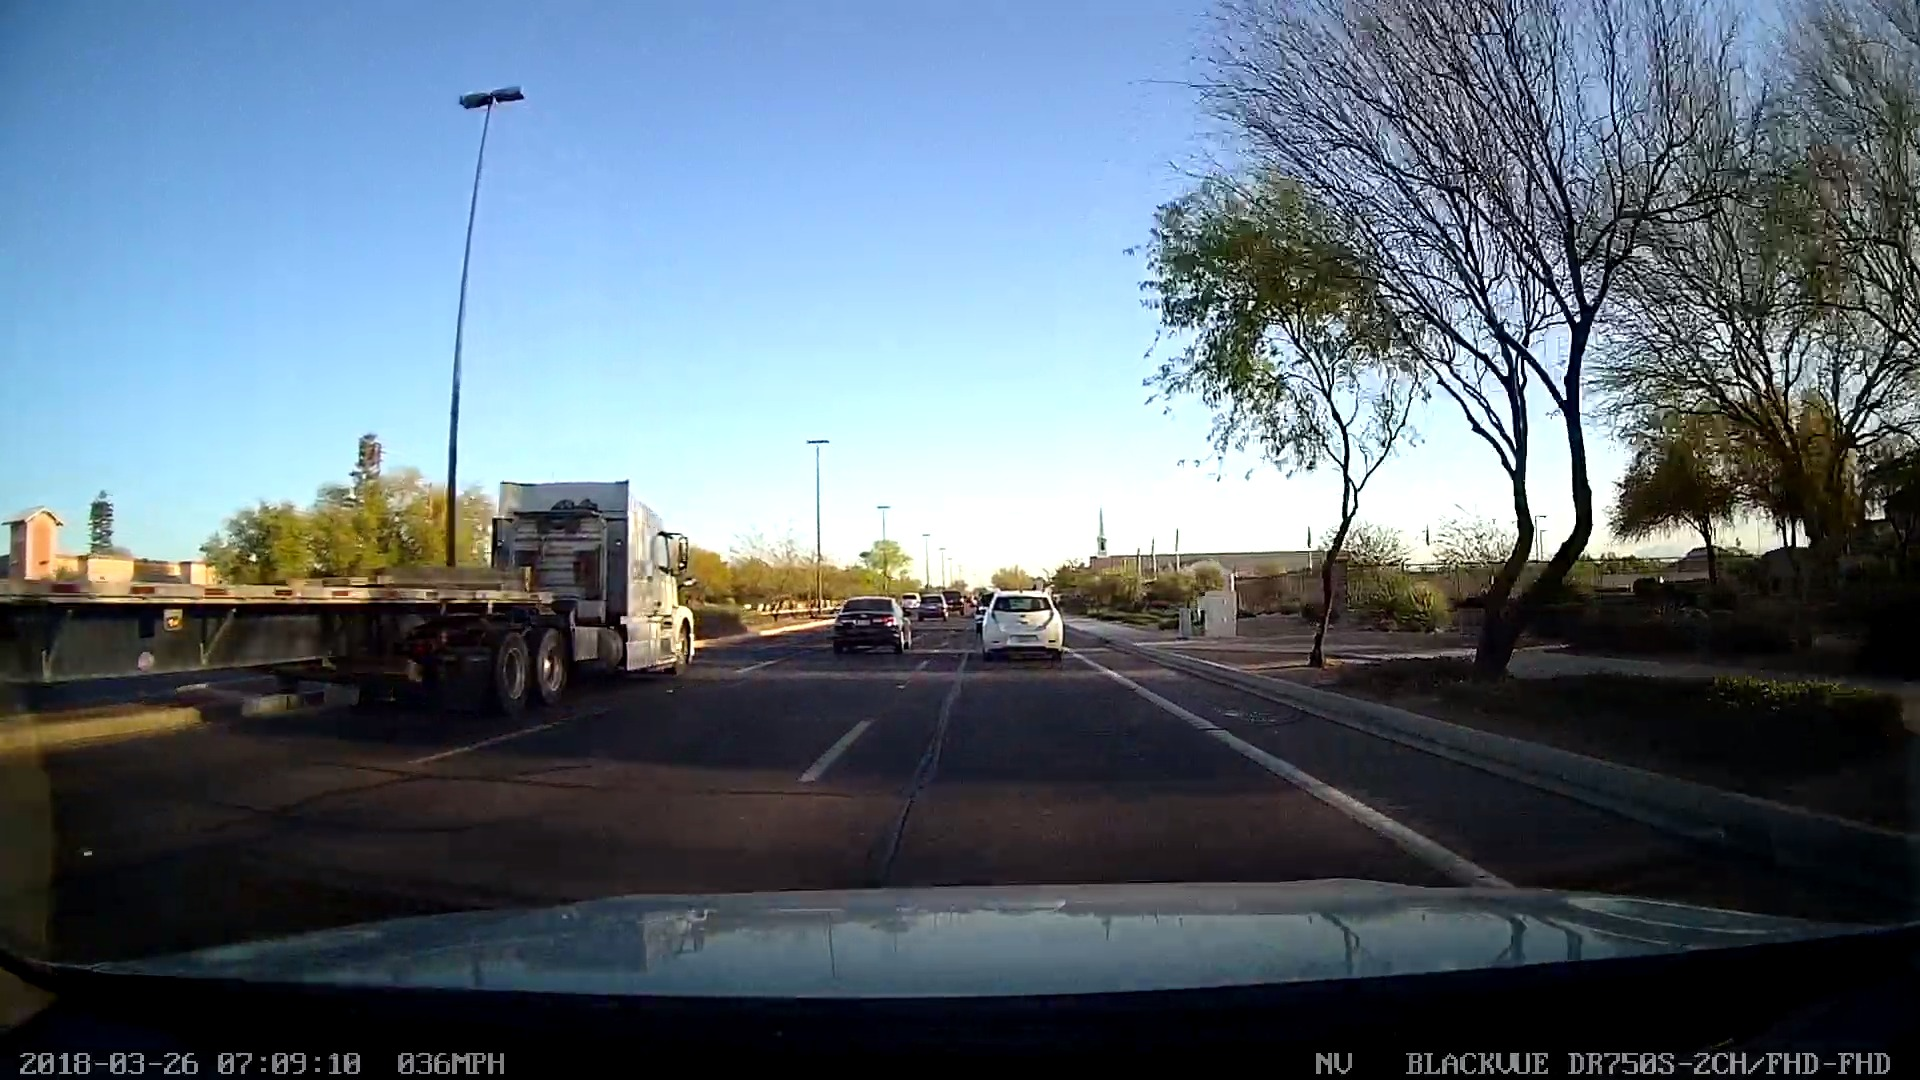vehicle: (0, 465, 711, 725), (967, 579, 1077, 669), (816, 583, 920, 665)
